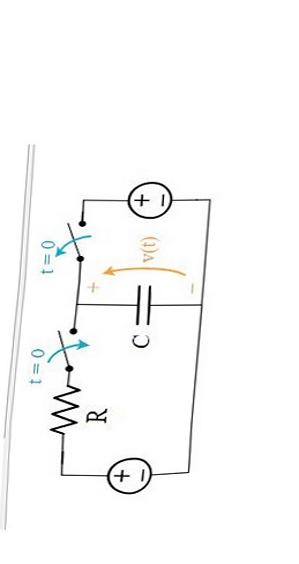Battery: (100, 438, 165, 506), (112, 166, 176, 232)
